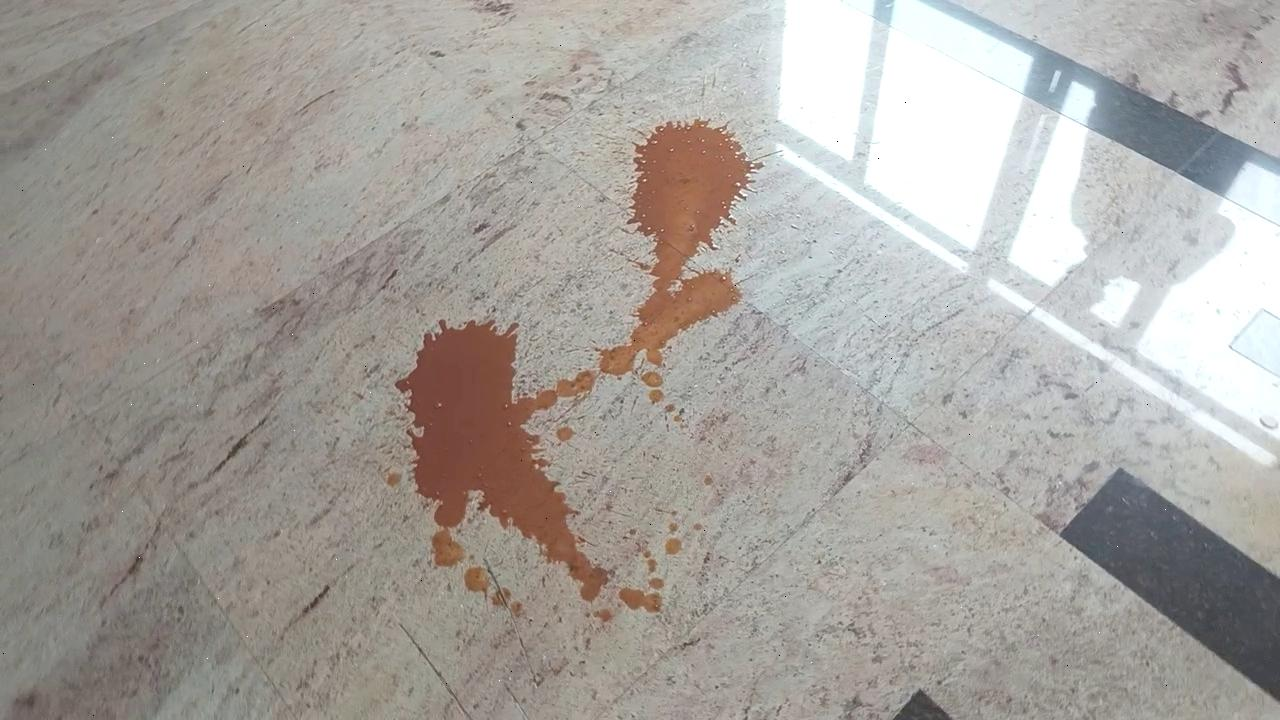dirty_floor: (395, 115, 762, 617)
